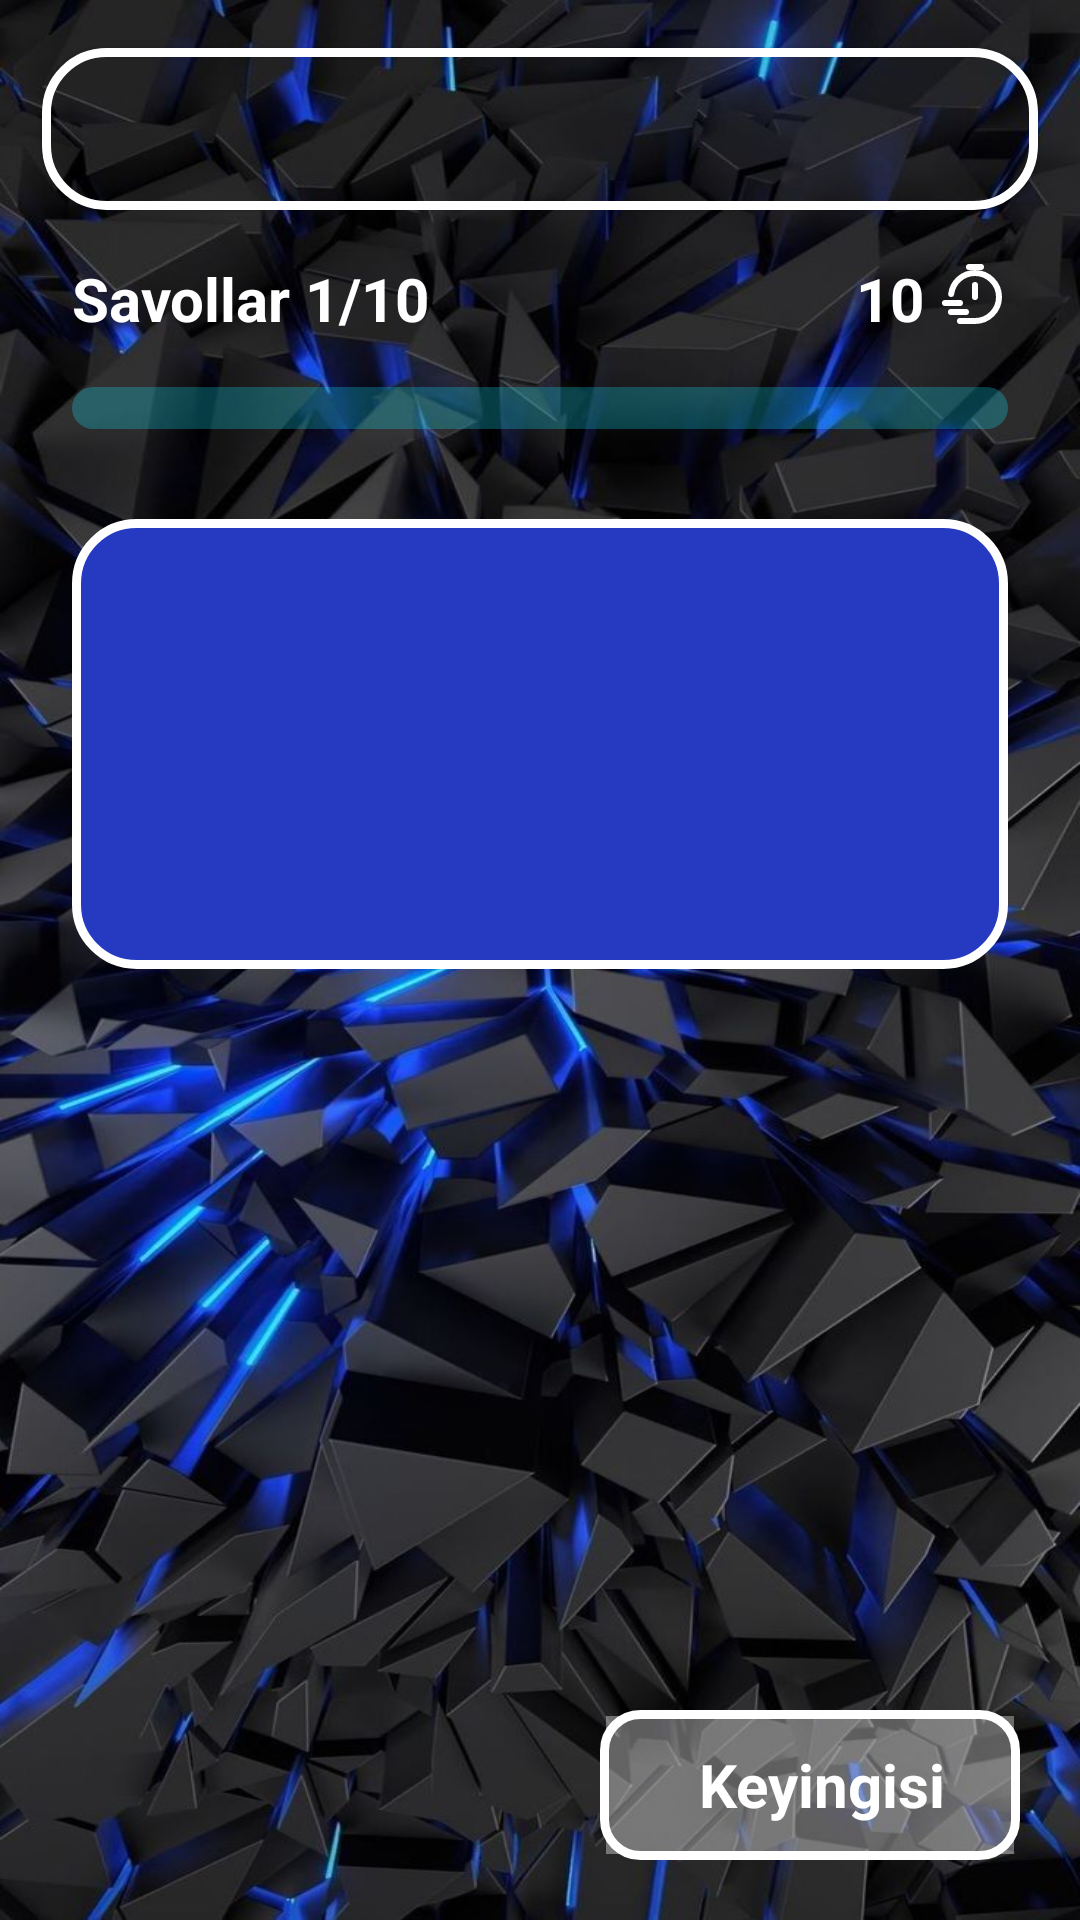

Where icons sit on this 1080px x 1920px app screen, as (x1, y1, x2, y2):
clock: (942, 263, 1002, 324)
